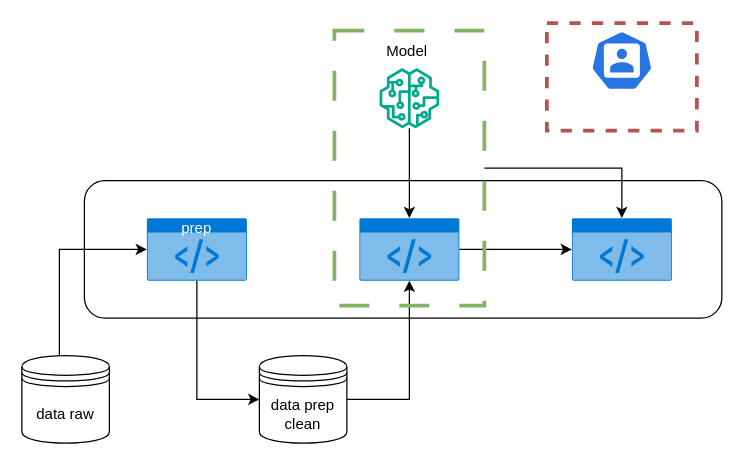
Some shapes in this 744 by 465 pixel diagram are drawn without their labels. Here are the shapes that lost their labels. From the top down, the centre of each, then its label:
the point at 409,249: train
the point at 621,249: inference
